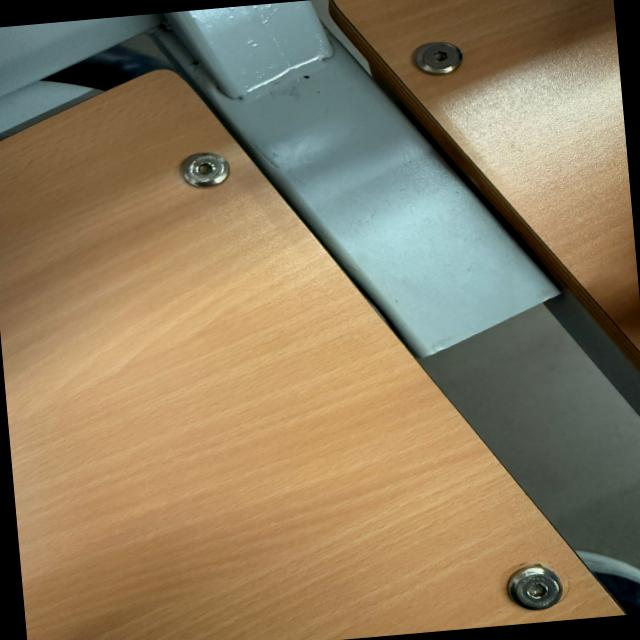Hex Socket Allen: (501, 566, 569, 612), (172, 147, 234, 190), (410, 36, 468, 74)
